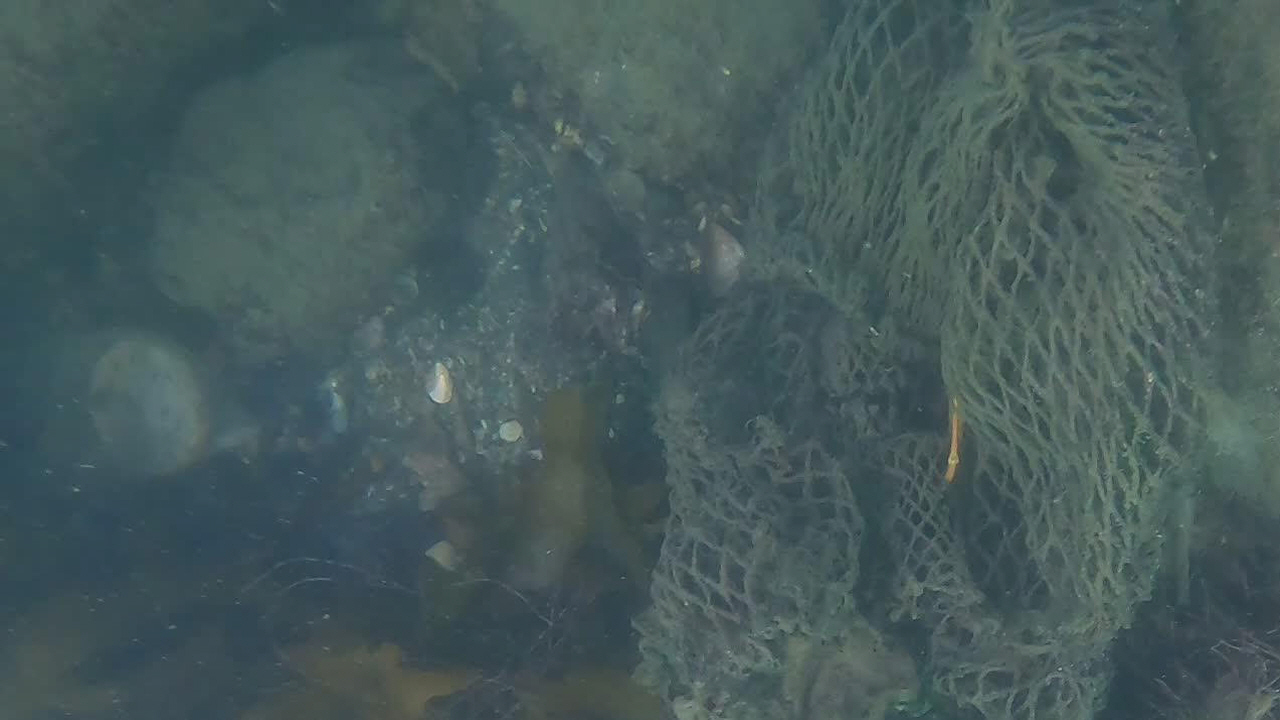fish net: (633, 0, 1218, 720)
